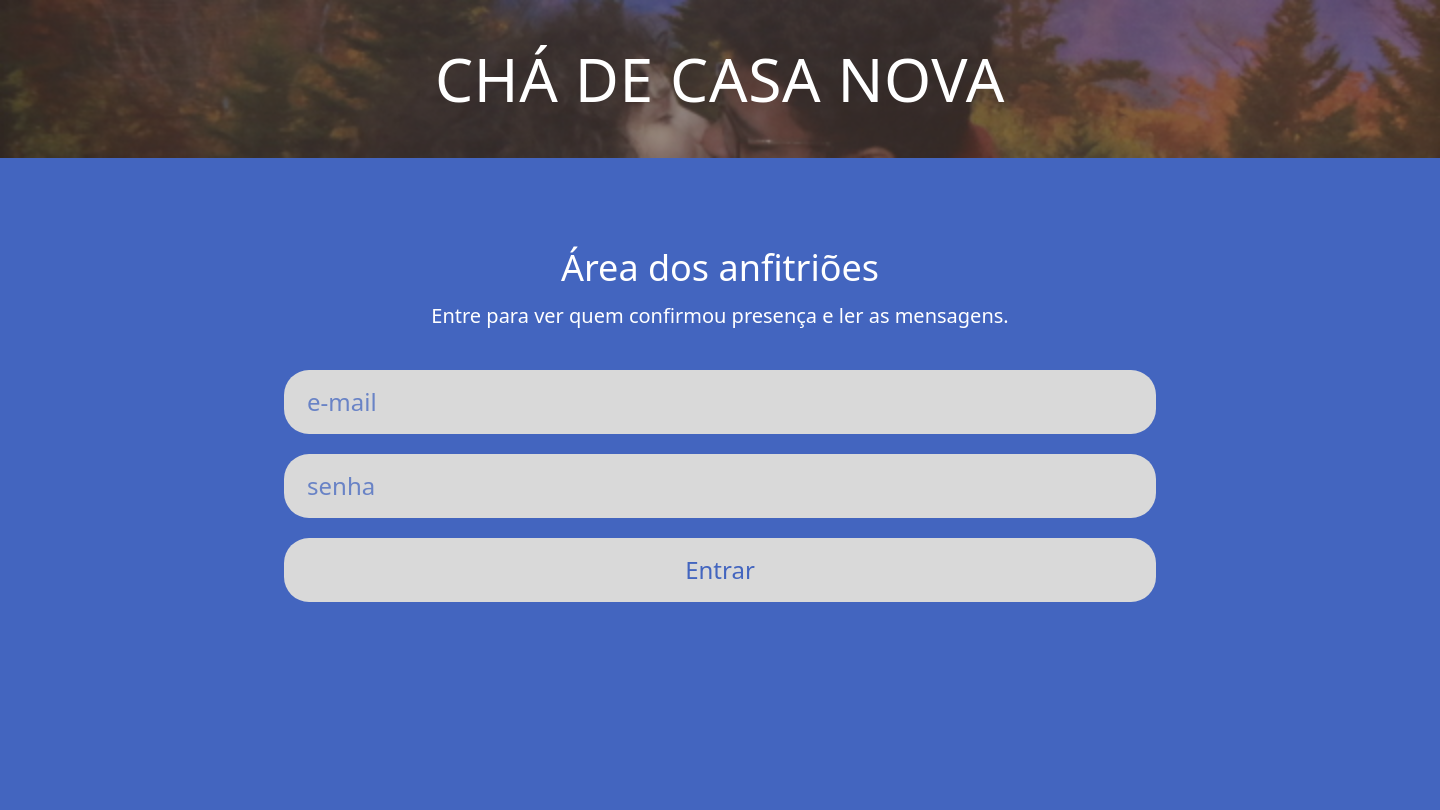
Scenario: área administrativa › mostra erro genérico em credenciais inválidas e limpa a senha
Type "x@y.com" into the field labelled "e-mail" at (720, 402), box [284,370,1156,434]
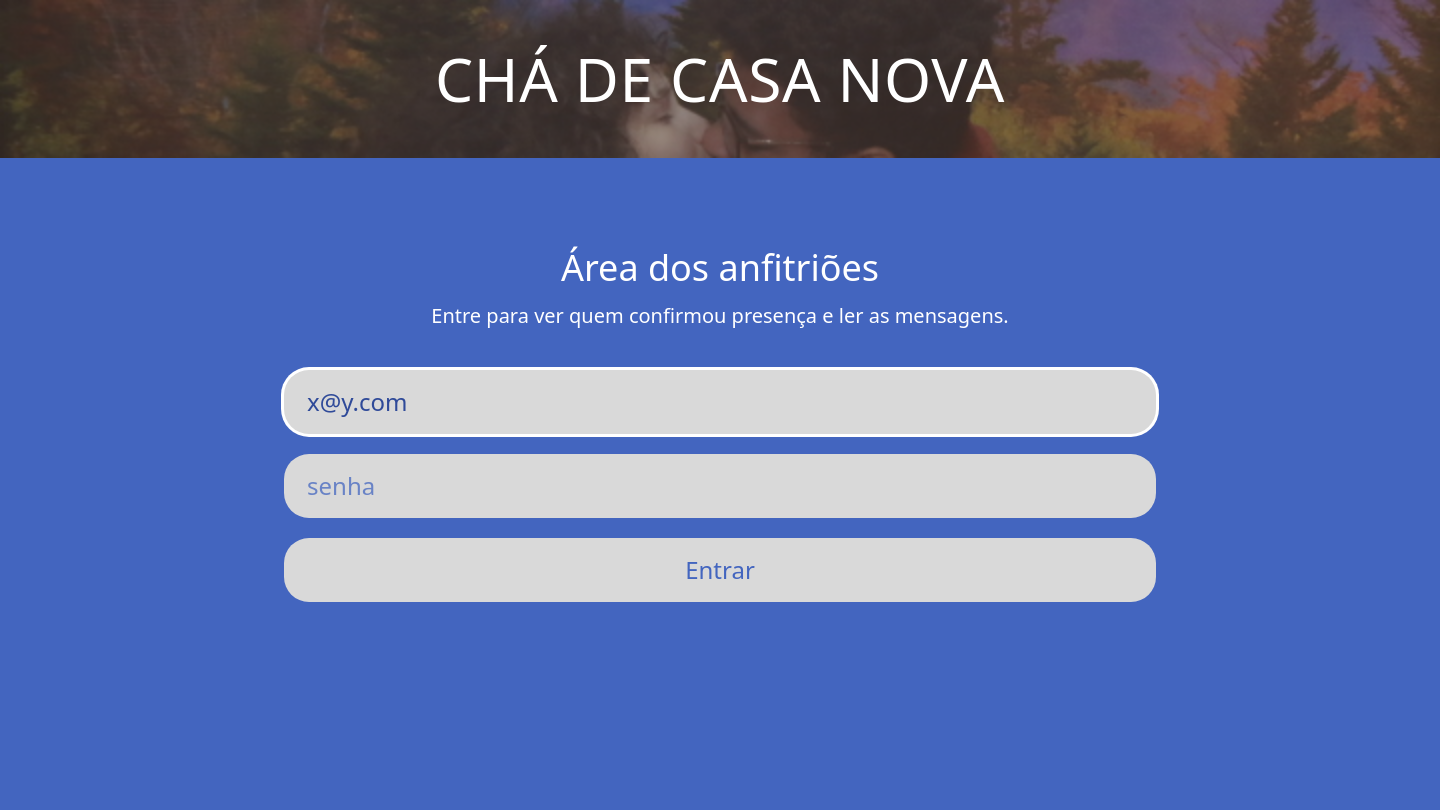
Type "errada" into the password field labelled "senha" at (720, 486), box [284,454,1156,518]
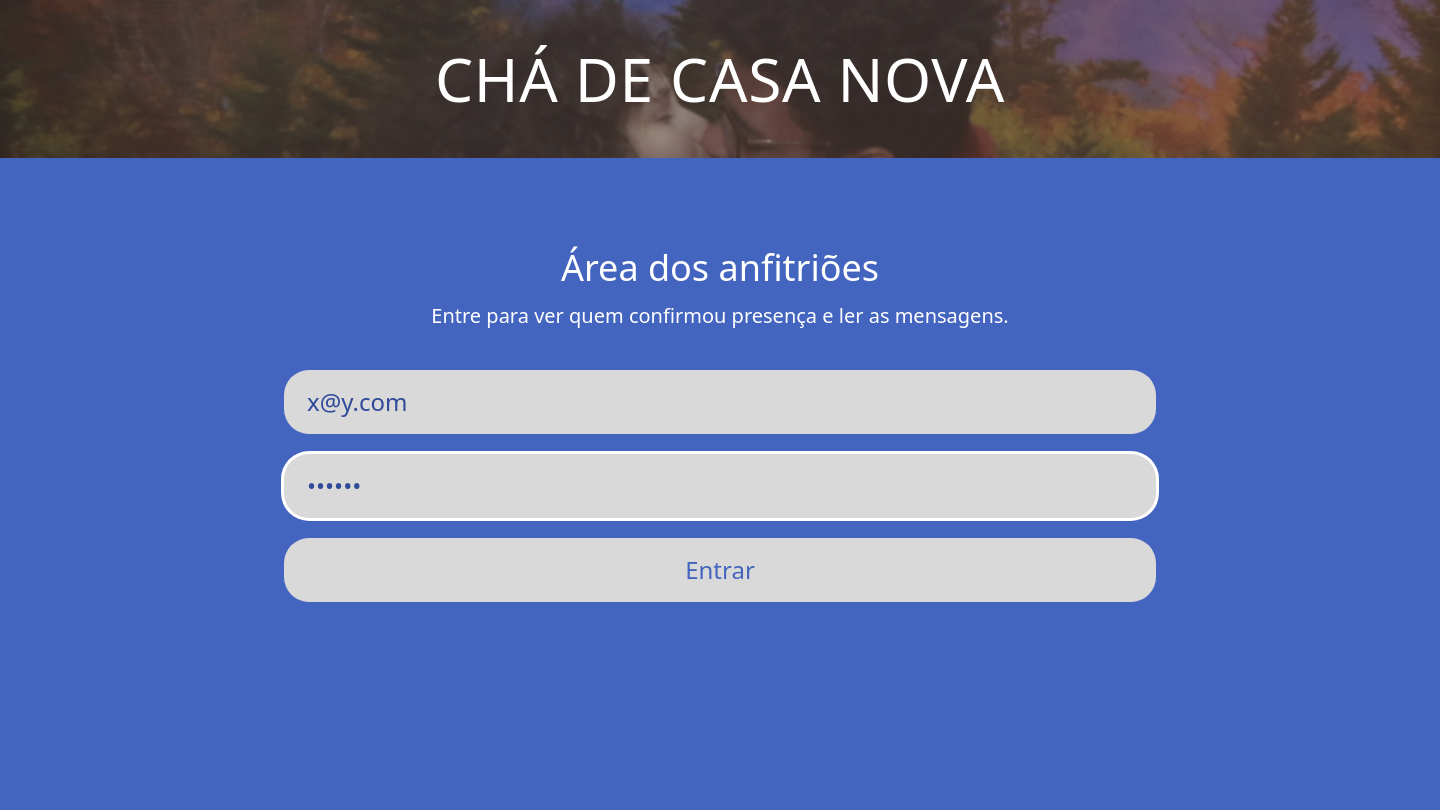
Click the button "Entrar" at (720, 570), box [284,538,1156,602]
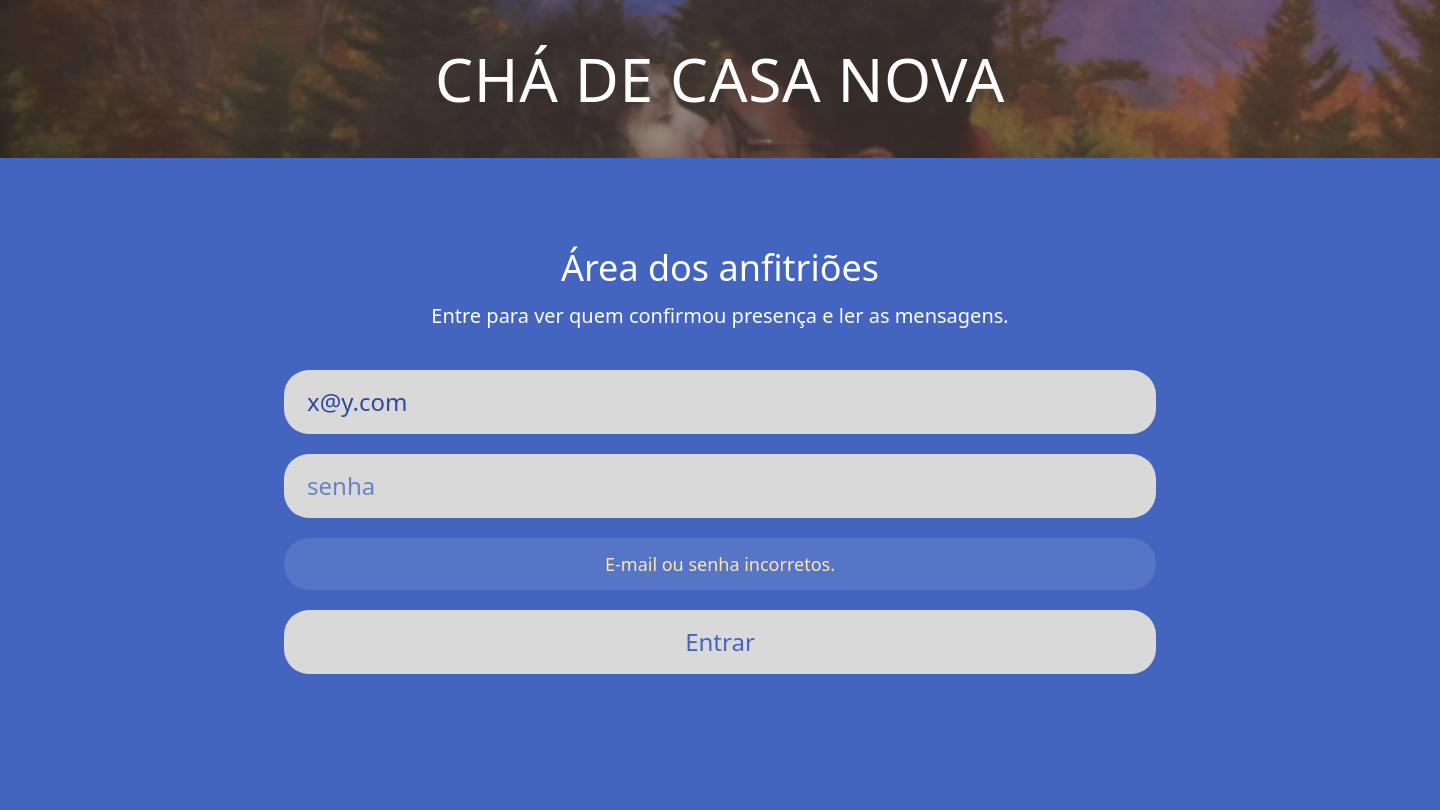
Result: the message reads "E-mail ou senha incorretos." at [605,552,835,576]
Result: the password field labelled "senha" is empty at [284,454,1156,518]
